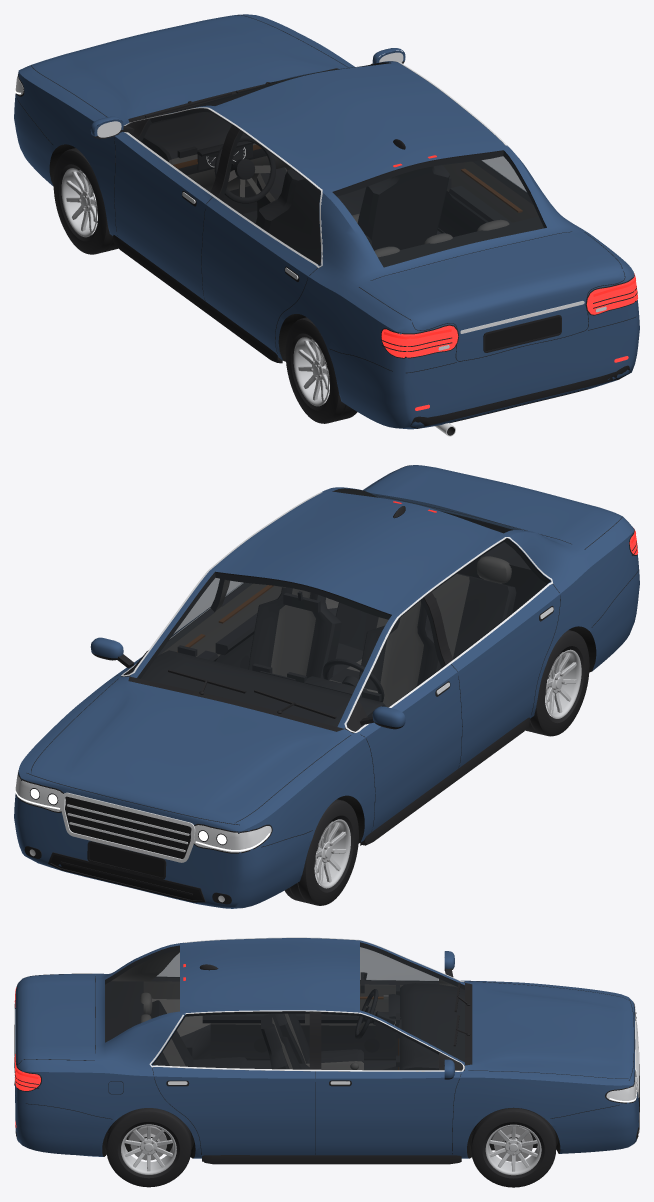
Rendered from aurelia_sedan.glb.
3 views of the same model, one above another, from view 1: azimuth 30°, elevation 25°; view 2: azimuth 150°, elevation 25°; view 3: azimuth 270°, elevation 25° (orthographic). The views are drawn at different scales.
Visible parts, largest first — view 1: Body, Glass, Interior, Wheel_FL, Wheel_RL, Lights_Tail, SteeringWheel; view 2: Body, Glass, Interior, Wheel_FL, Wheel_RL, SteeringWheel, Lights_Head; view 3: Body, Glass, Interior, Wheel_FR, Wheel_RR, SteeringWheel, Lights_Tail.
Boxes of the visible parts, box(x1,y1,x2,y2) form: Body: box(14, 14, 639, 436); Glass: box(138, 63, 546, 267); Interior: box(141, 105, 543, 267); Wheel_FL: box(53, 148, 118, 254); Wheel_RL: box(285, 317, 357, 423); Lights_Tail: box(381, 273, 637, 410); SteeringWheel: box(214, 135, 275, 203); Body: box(14, 465, 639, 908); Glass: box(138, 489, 549, 726); Interior: box(141, 532, 546, 726); Wheel_FL: box(284, 799, 358, 905); Wheel_RL: box(525, 630, 589, 736); SteeringWheel: box(323, 658, 384, 701); Lights_Head: box(15, 783, 269, 851); Body: box(14, 937, 639, 1164); Glass: box(105, 943, 464, 1069); Interior: box(105, 950, 464, 1070); Wheel_FR: box(471, 1107, 556, 1187); Wheel_RR: box(106, 1108, 191, 1187); SteeringWheel: box(355, 989, 378, 1039); Lights_Tail: box(14, 987, 40, 1127).
Bounding box in the file's own units: 2.17 × 1.47 × 4.77.
